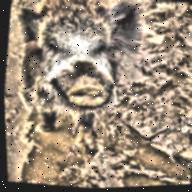boar: (0, 0, 153, 155)
